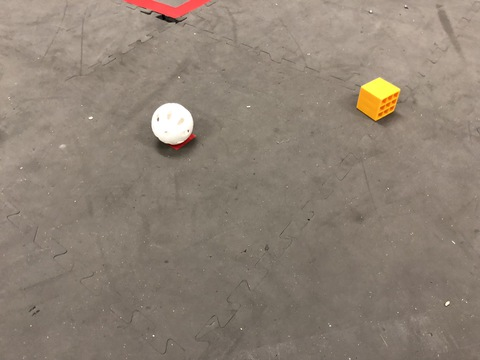ball: (140, 101, 202, 155)
block: (354, 77, 404, 121)
